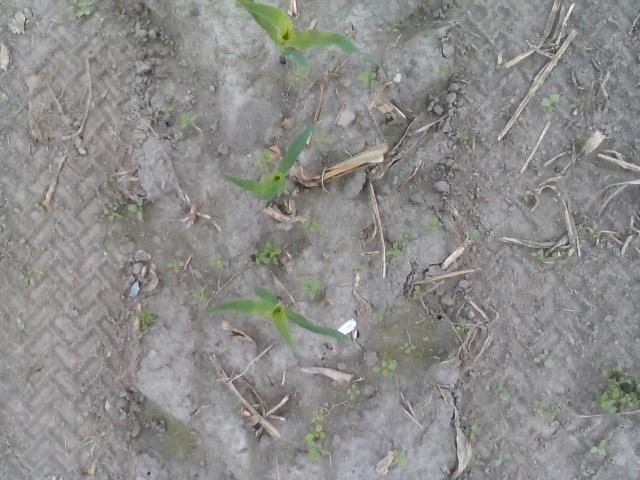Maize: (232, 0, 392, 83), (207, 285, 349, 354), (223, 121, 317, 203)
Weeds: (589, 366, 640, 419), (304, 402, 333, 462), (527, 400, 561, 422), (254, 241, 282, 266), (245, 148, 272, 172), (304, 207, 326, 234), (71, 0, 96, 23), (372, 357, 398, 379), (180, 112, 210, 131), (18, 268, 46, 288), (302, 272, 320, 302), (529, 248, 552, 271), (358, 64, 380, 88), (102, 205, 128, 223), (532, 353, 558, 370), (134, 308, 154, 330), (126, 198, 144, 222), (399, 343, 424, 360), (424, 214, 443, 234), (542, 92, 560, 112), (390, 449, 408, 468), (317, 132, 335, 150), (163, 258, 186, 272), (345, 382, 361, 402), (462, 423, 480, 440), (590, 440, 609, 456), (192, 286, 208, 304), (496, 383, 512, 401), (288, 67, 308, 81), (208, 253, 225, 269), (14, 330, 31, 346), (102, 238, 120, 252), (386, 238, 400, 256), (588, 222, 600, 241), (456, 128, 472, 142), (399, 229, 412, 246), (434, 63, 448, 77), (496, 452, 512, 464), (191, 30, 210, 40), (574, 94, 584, 110), (454, 322, 470, 332), (32, 244, 47, 254), (412, 284, 422, 299), (372, 308, 384, 320), (469, 228, 481, 240), (468, 463, 480, 474), (633, 137, 640, 155), (6, 101, 16, 113), (574, 132, 584, 144), (0, 127, 14, 135), (224, 53, 240, 60), (103, 174, 113, 185), (472, 0, 482, 10), (606, 311, 616, 321), (584, 468, 594, 478), (350, 263, 360, 273), (428, 320, 439, 329), (162, 106, 176, 112), (32, 200, 40, 210), (591, 287, 599, 297), (79, 329, 87, 337)
